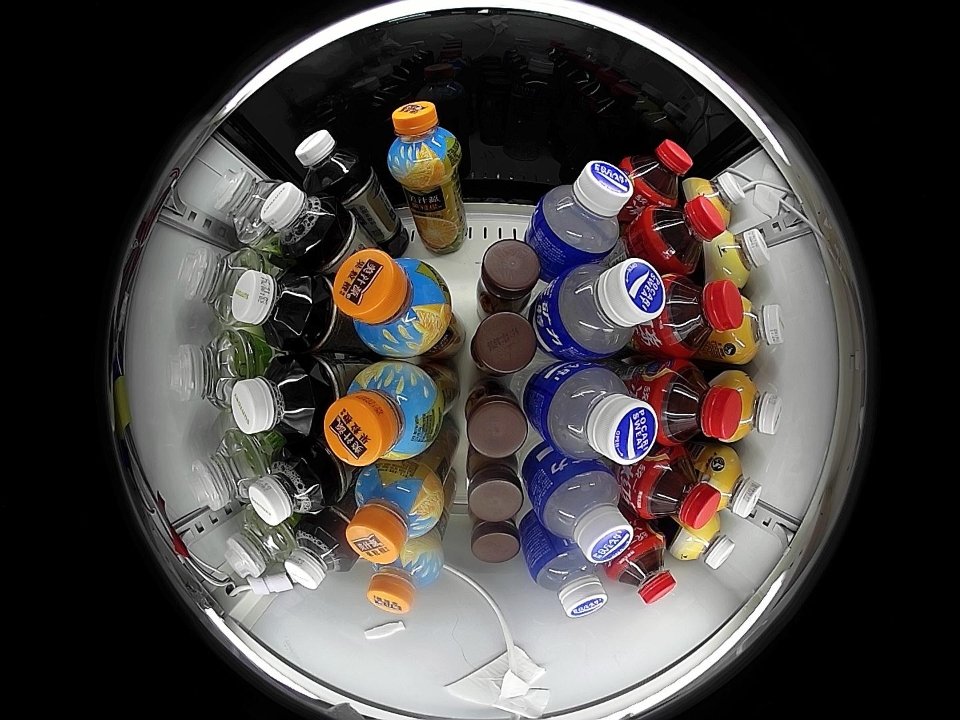asamu: (723, 298, 786, 363), (704, 450, 763, 519), (726, 370, 783, 440), (711, 228, 771, 285), (675, 517, 736, 569), (690, 171, 747, 225)
baokuangli: (543, 257, 666, 360), (538, 362, 658, 466), (532, 159, 634, 262), (534, 460, 633, 563), (529, 542, 607, 619)
binghongcha: (651, 359, 745, 445), (656, 275, 743, 358), (635, 449, 722, 531), (643, 196, 727, 274), (607, 531, 677, 606), (623, 139, 693, 206)
guolicheng: (333, 250, 451, 357), (323, 361, 442, 465), (346, 461, 445, 564), (387, 101, 463, 188), (366, 537, 443, 615)
jianjiao: (180, 246, 265, 326), (171, 330, 253, 410), (190, 430, 266, 510), (212, 168, 278, 247), (225, 511, 294, 577)
lujikafei: (463, 382, 529, 458), (477, 239, 541, 315), (470, 312, 535, 377), (466, 454, 525, 522), (470, 515, 522, 564)
wulongcha: (230, 268, 320, 350), (230, 358, 318, 438), (247, 445, 329, 527), (259, 182, 338, 262), (284, 519, 353, 591), (295, 129, 365, 193)
